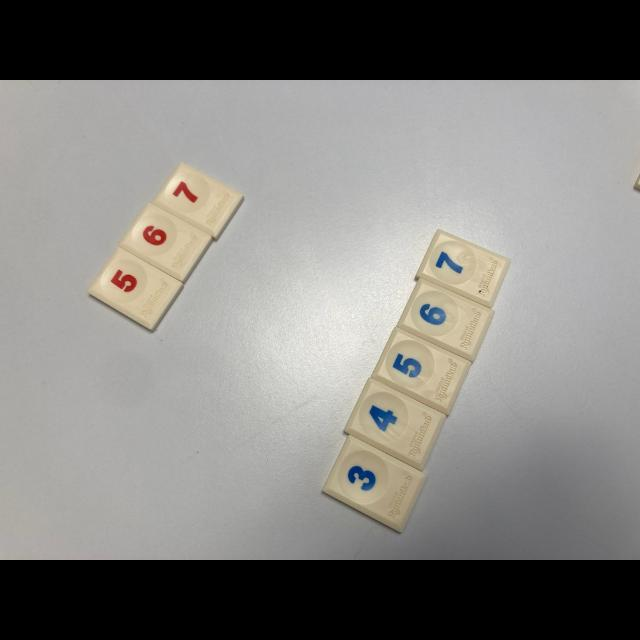blue_3: (324, 435, 425, 531)
blue_4: (345, 379, 446, 470)
blue_5: (372, 328, 471, 415)
blue_6: (398, 279, 494, 361)
blue_7: (417, 230, 510, 308)
red_5: (89, 248, 182, 330)
red_6: (119, 204, 211, 281)
red_7: (152, 162, 242, 239)
